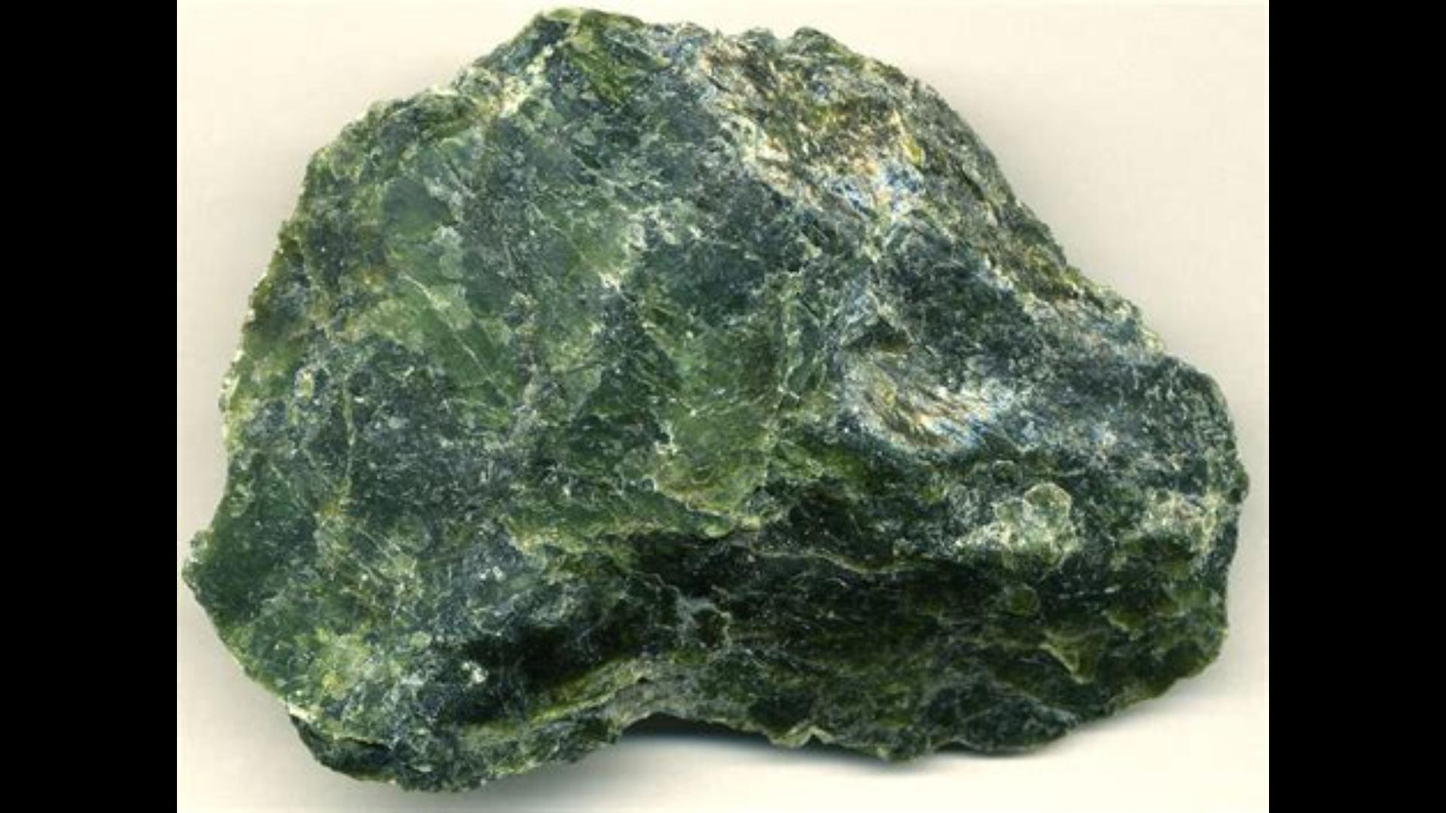rock: (186, 12, 1244, 785)
